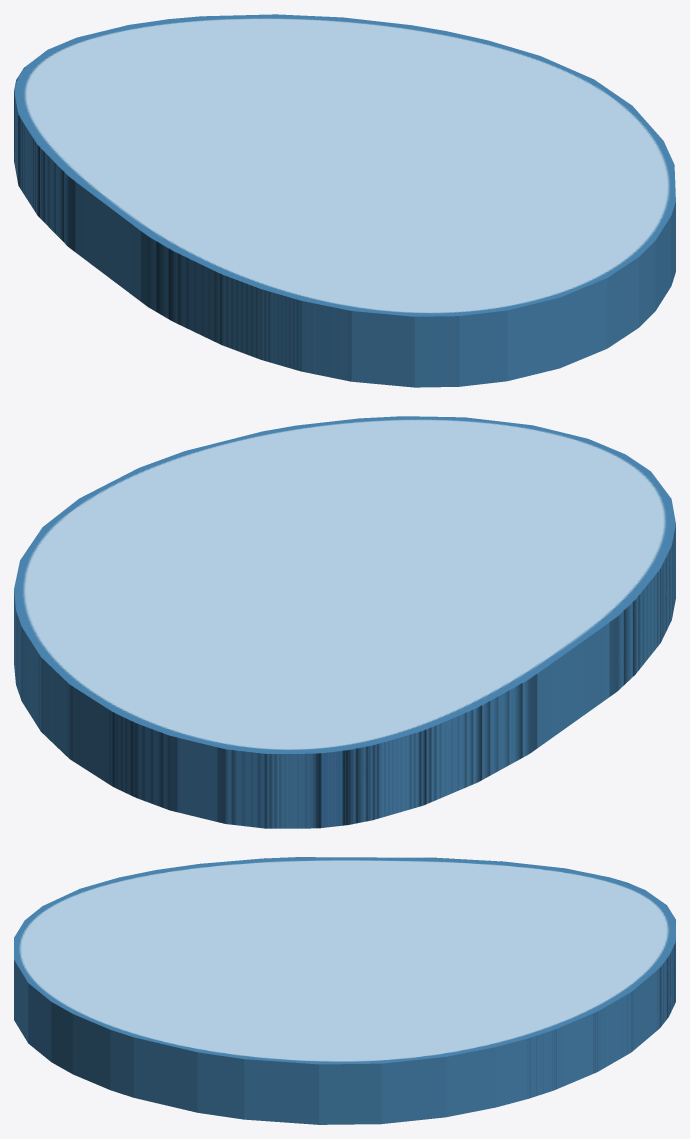
File: nucleus.gltf
3 views of the same model, one above another, from view 1: azimuth 30°, elevation 25°; view 2: azimuth 150°, elevation 25°; view 3: azimuth 270°, elevation 25° (orthographic). The views are drawn at different scales.
Bounding box in the file's own units: 0.0698 × 0.0095 × 0.0942.
Materials: 1 (1 with a texture image).
